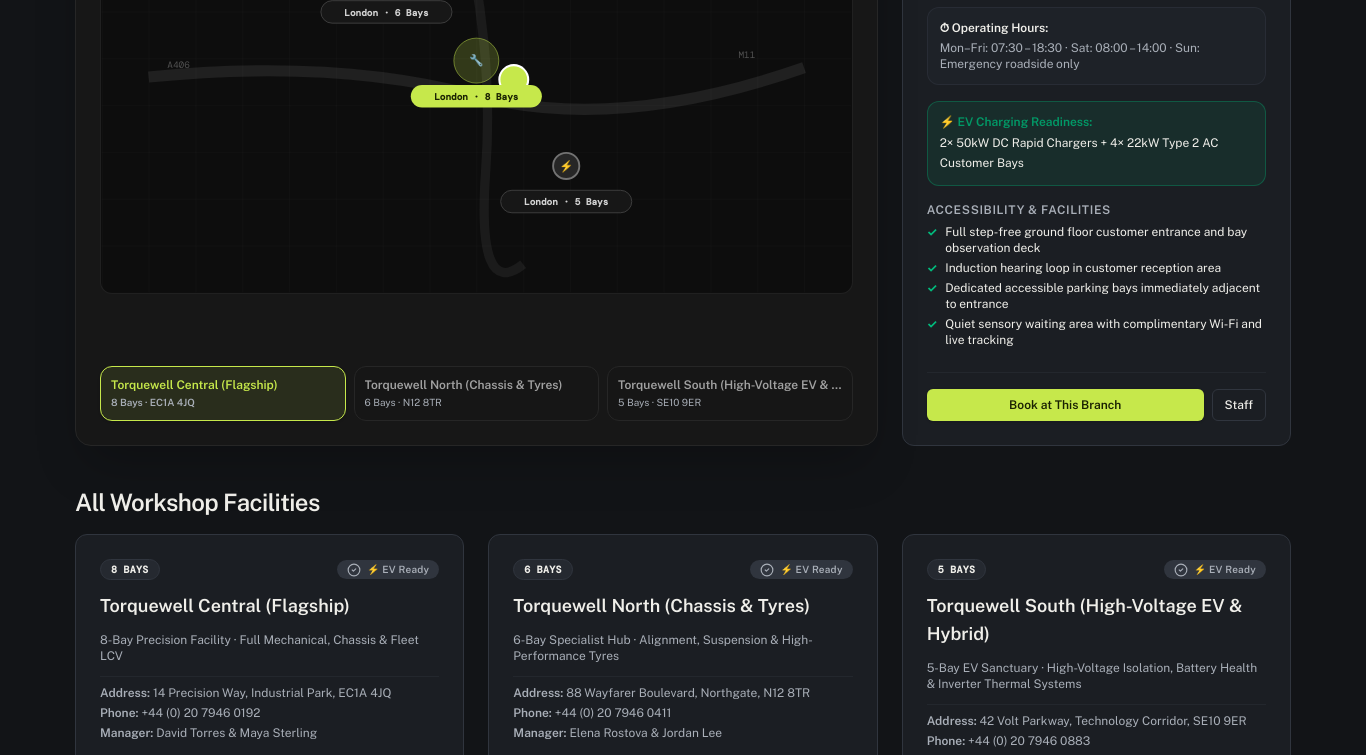
Test: Workshop Locations (Feature 05 & Site Architecture) › allows selecting a branch and displays its accessibility and EV charging specs
(page scrolled)
Note: Select South EV branch
Click the text "Torquewell South (High-Voltage EV & Hybrid)" at (730, 385), box [618, 377, 842, 393]
(page scrolled)
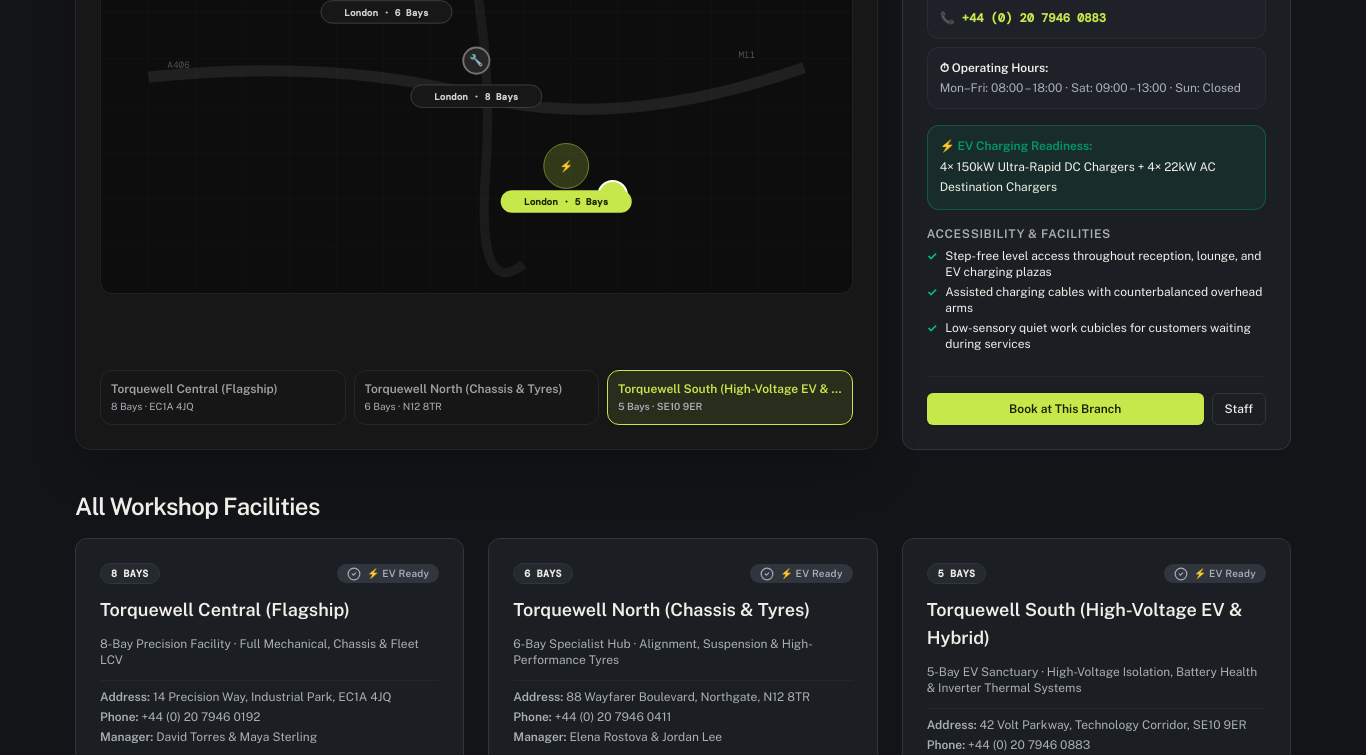
Check: the text "Accessibility & Facilities" is shown, box [927, 227, 1111, 241]
Check: the text "150kW Ultra-Rapid DC Chargers" is shown, box [940, 160, 1216, 194]
